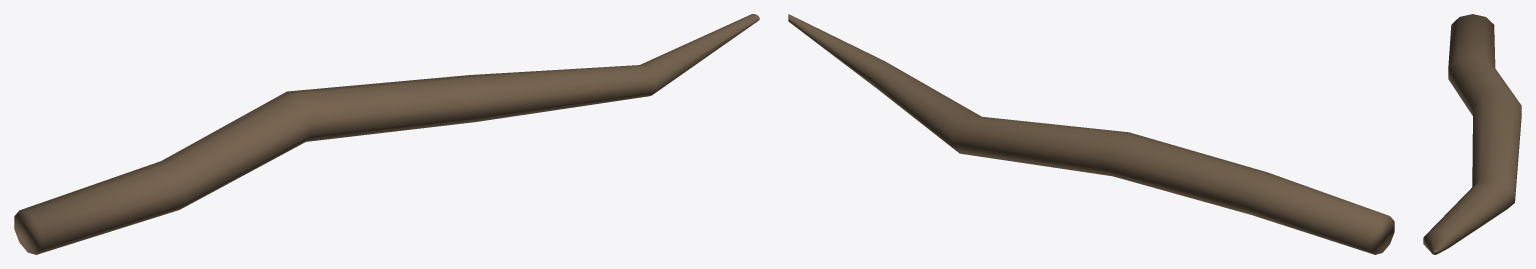
Rendered from Galhao_5.fbx.
3 views of the same model, side by side, from view 1: azimuth 30°, elevation 25°; view 2: azimuth 150°, elevation 25°; view 3: azimuth 270°, elevation 25° (orthographic). The views are drawn at different scales.
Parts seen in each view (by area): view 1: pCylinder3; view 2: pCylinder3; view 3: pCylinder3.
Part boxes in pixels (left/top/right/bottom): pCylinder3: left=14, top=14, right=759, bottom=254; pCylinder3: left=788, top=14, right=1394, bottom=254; pCylinder3: left=1423, top=14, right=1521, bottom=254.
Size of the model in its own units: 34.45 by 3.92 by 5.29.
